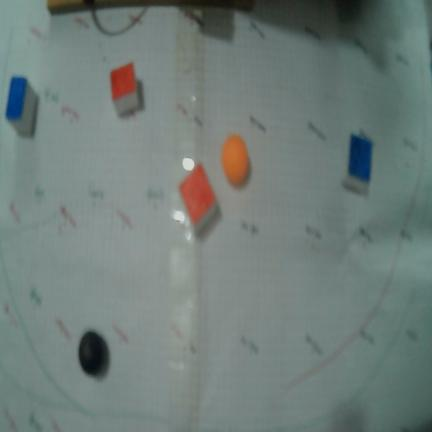circle_blue: (78, 331, 110, 380)
circle_orange: (222, 136, 249, 186)
rectangle_blue: (5, 77, 27, 118)
rectangle_orange: (110, 60, 137, 99)
square_blue: (179, 165, 215, 226), (348, 135, 372, 183)
